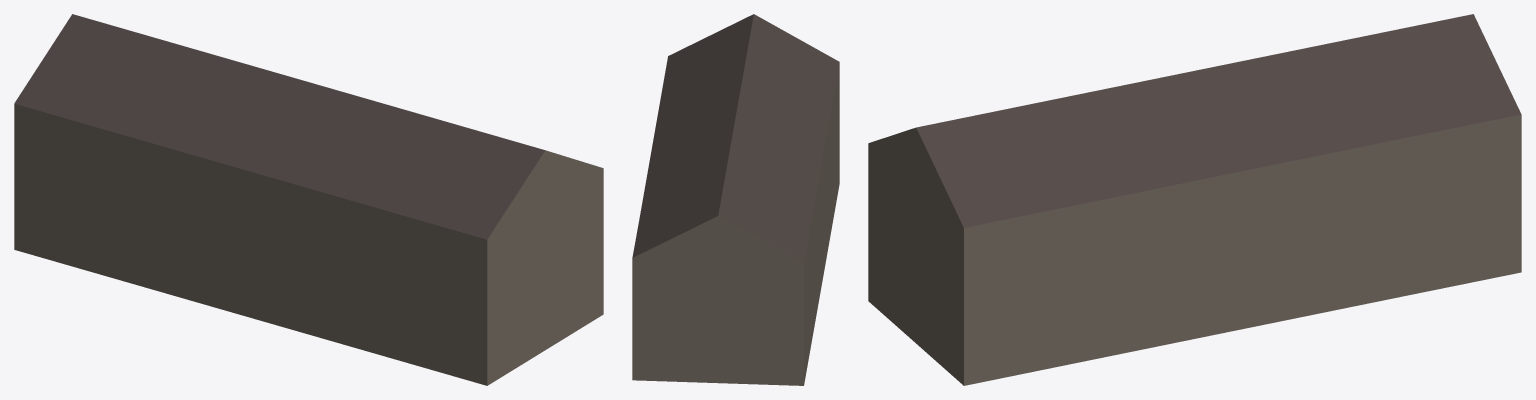
3 renders of one model, left to right at view 1: azimuth 30°, elevation 25°; view 2: azimuth 150°, elevation 25°; view 3: azimuth 270°, elevation 25°, orthographic. The views are drawn at different scales.
Parts seen in each view (by area): view 1: HP-w859424147; view 2: HP-w859424147; view 3: HP-w859424147.
Boxes of the visible parts, x1=… form: HP-w859424147: x1=14, y1=14, x2=603, y2=385; HP-w859424147: x1=632, y1=14, x2=839, y2=385; HP-w859424147: x1=868, y1=14, x2=1521, y2=385.
Bounding box in the file's own units: 16.16 × 8.21 × 22.5.
